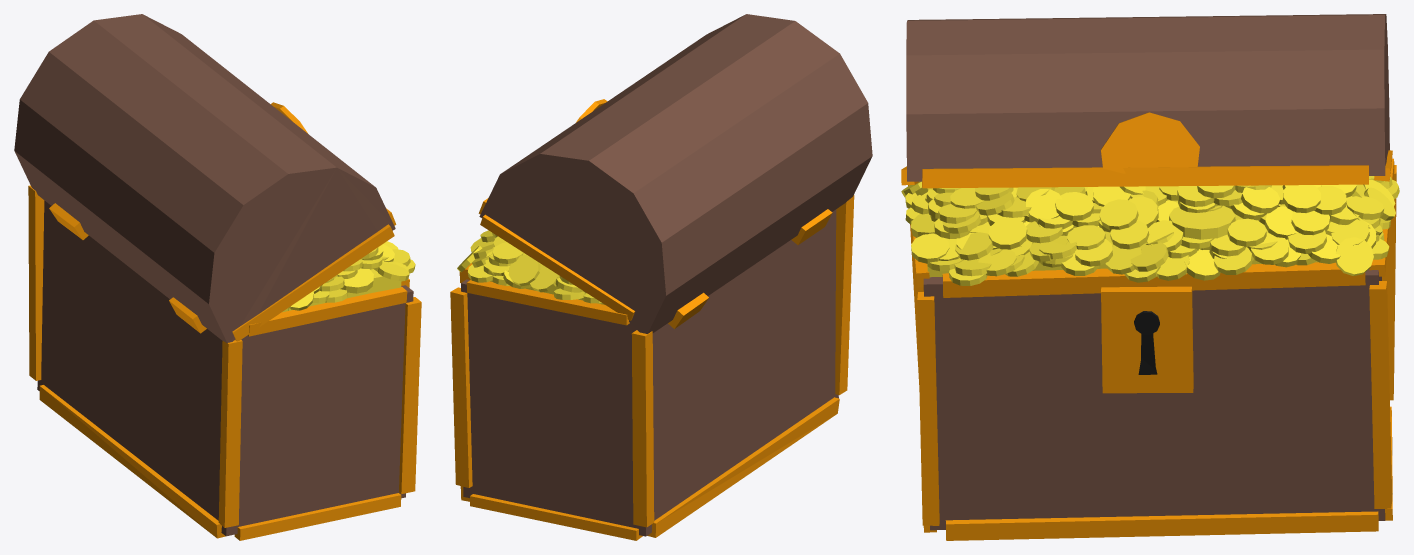
The model's file is Chest.glb.
3 views of the same model, side by side, from view 1: azimuth 30°, elevation 25°; view 2: azimuth 150°, elevation 25°; view 3: azimuth 270°, elevation 25° (orthographic). The views are drawn at different scales.
Visible parts, largest first — view 1: group3060091; view 2: group3060091; view 3: group3060091.
Part boxes in pixels (x1,y1,x2,y2): group3060091: [14, 14, 421, 540]; group3060091: [450, 14, 872, 540]; group3060091: [901, 14, 1399, 540].
Size of the model in its own units: 0.2516 by 0.3813 by 0.3826.
